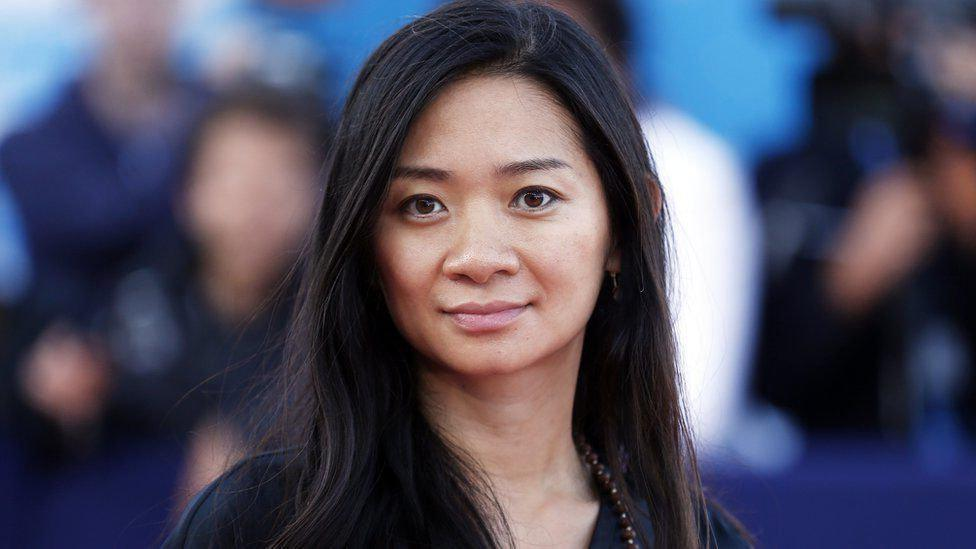Sober: (399, 85, 581, 354)
